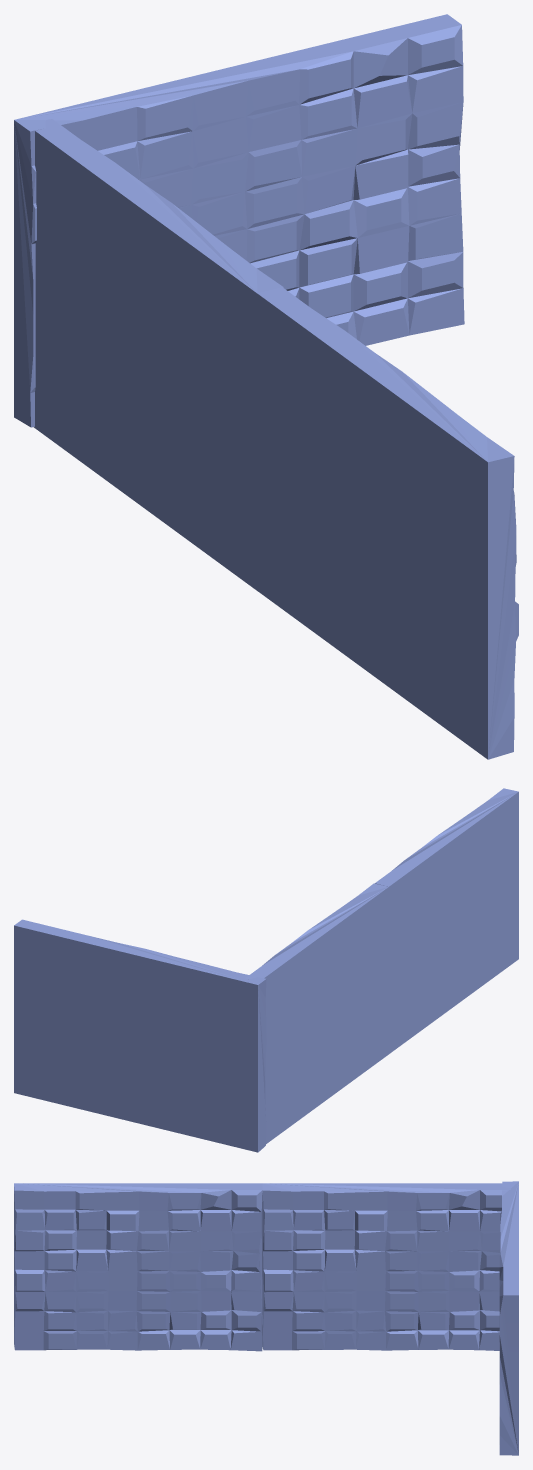
File: wallsAGP.fbx
3 renders of one model, top to bottom at view 1: azimuth 30°, elevation 25°; view 2: azimuth 150°, elevation 25°; view 3: azimuth 270°, elevation 25°, orthographic. The views are drawn at different scales.
Visible parts, largest first — view 1: Cube.017, Cube.016, Cube.041; view 2: Cube.017, Cube.016, Cube.041; view 3: Cube.016, Cube.041, Cube.017.
Part boxes in pixels (x1,y1,x2,y2): Cube.017: (14, 14, 464, 427); Cube.016: (257, 287, 518, 759); Cube.041: (33, 119, 283, 590); Cube.017: (14, 919, 266, 1152); Cube.016: (375, 788, 518, 1053); Cube.041: (245, 883, 388, 1143); Cube.016: (14, 1183, 262, 1351); Cube.041: (262, 1183, 510, 1350); Cube.017: (499, 1181, 518, 1455).
Size of the model in its own units: 655 by 431 by 1227.
